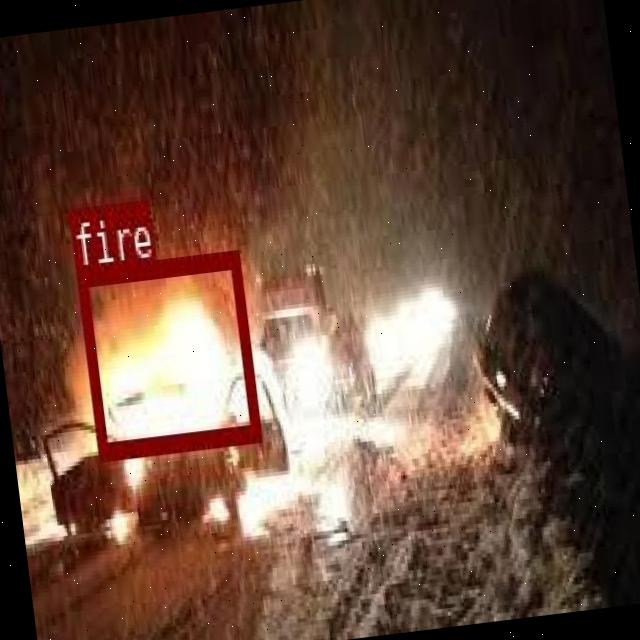fire: (75, 250, 259, 457)
